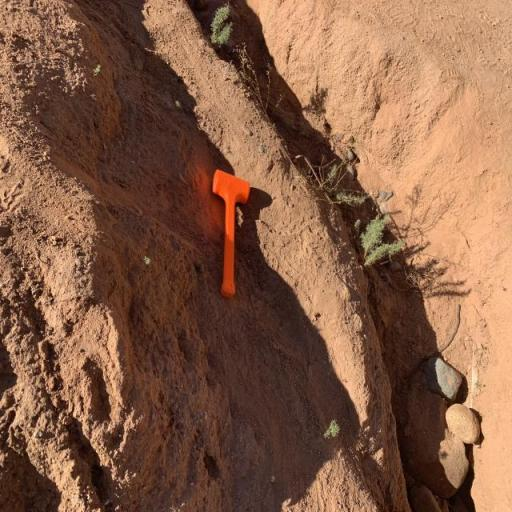mallet: (208, 166, 254, 302)
